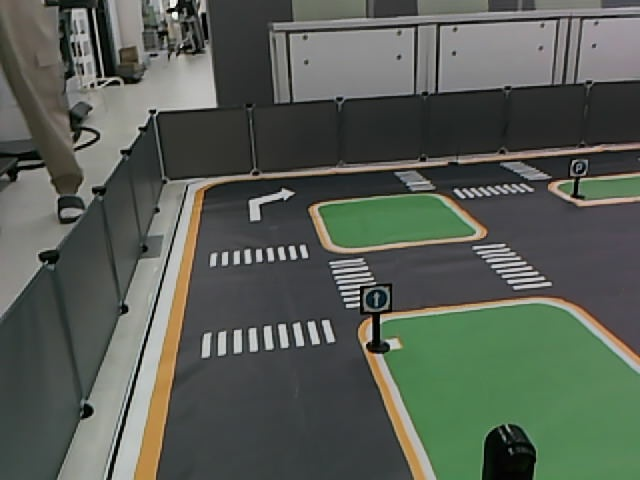crosswalk: (198, 318, 338, 358), (206, 245, 312, 264), (451, 183, 538, 199)
go: (364, 289, 390, 311)
park: (571, 161, 587, 174)
